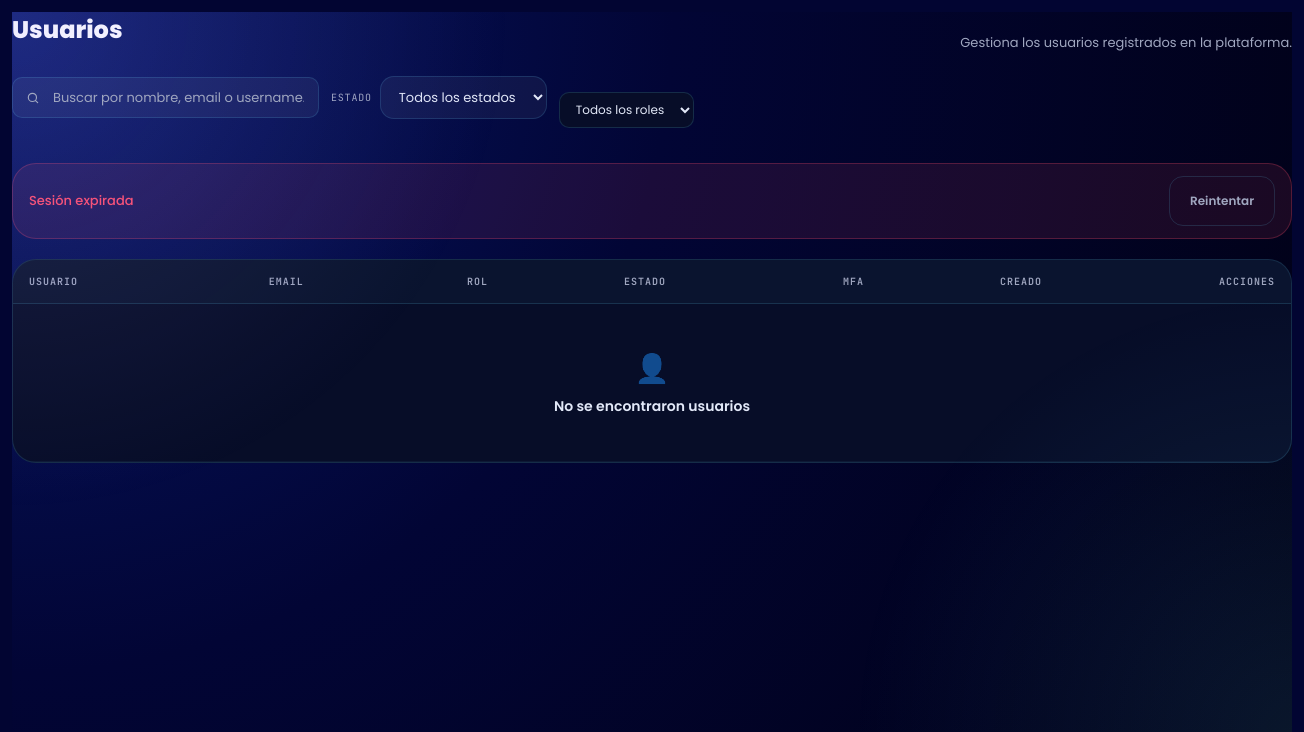
it: AdminUserPage › shows the error state and retries on demand
Check: the message shows "Sesión expirada", box [29,191,134,210]
Click the button "Reintentar" at (1222, 201), box [1169,176,1275,226]
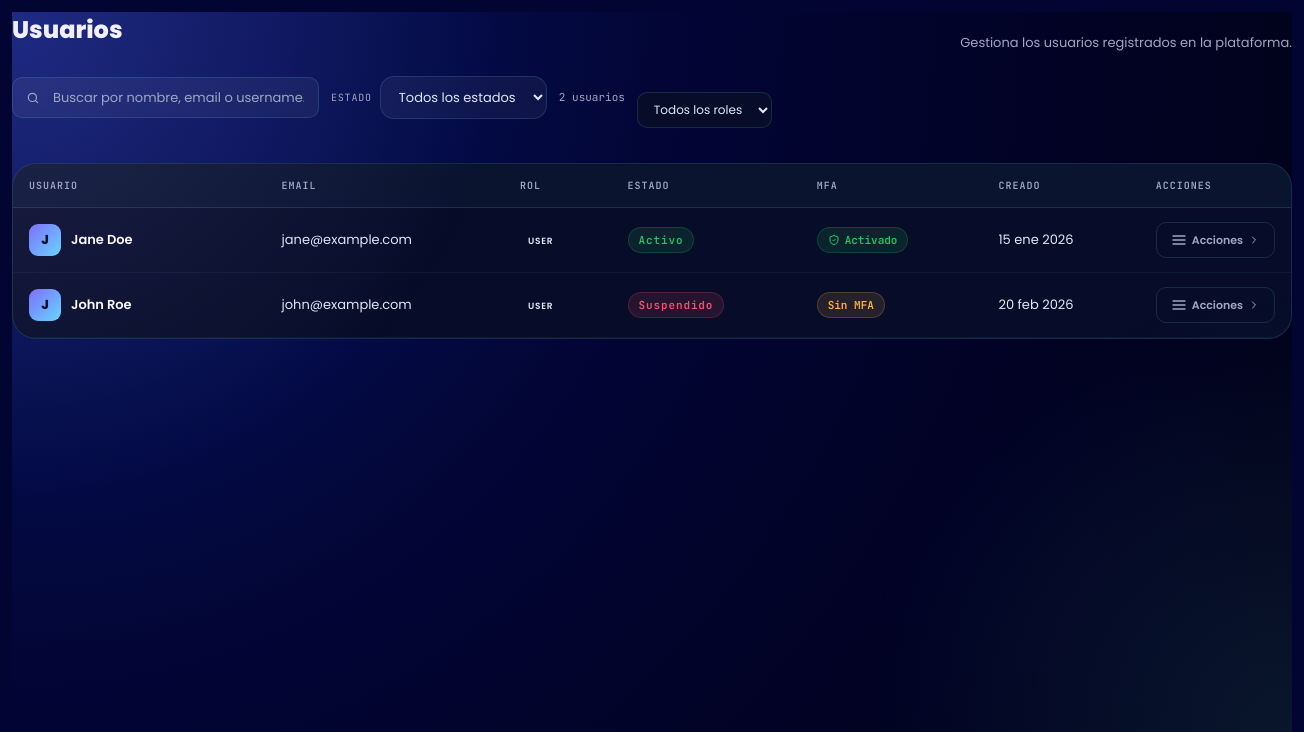
Check: the text "Jane Doe" is shown, box [71,230,133,250]
